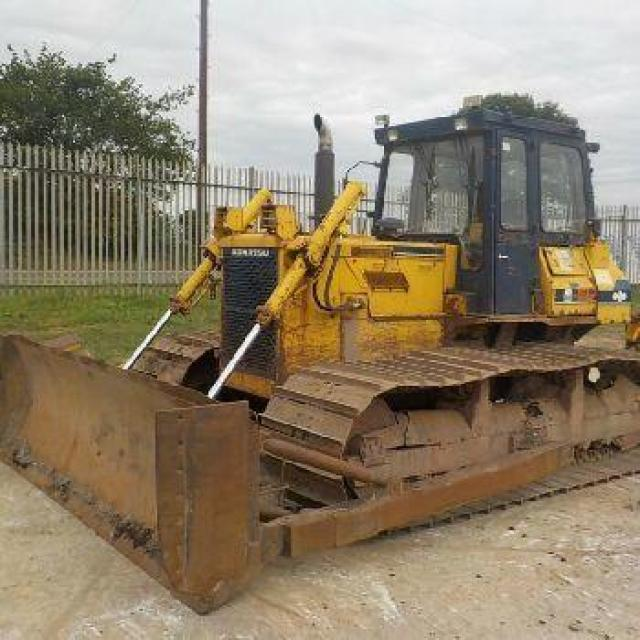Bulldozer: (6, 48, 638, 602)
